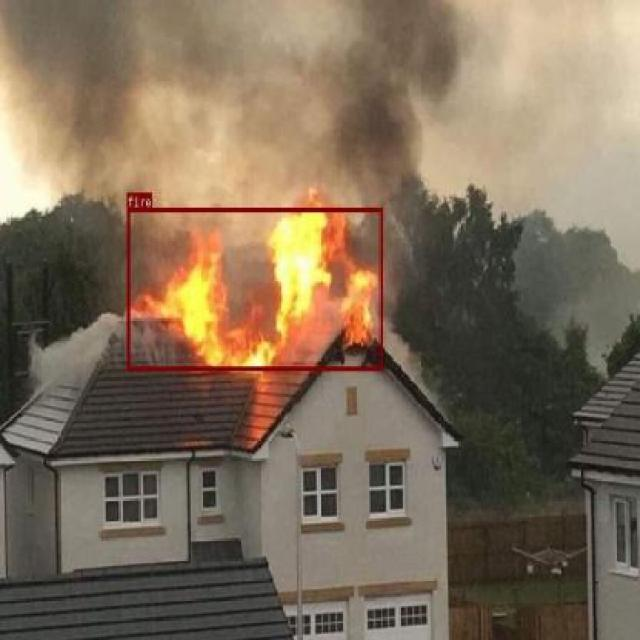Fire: (254, 161, 256, 288)
